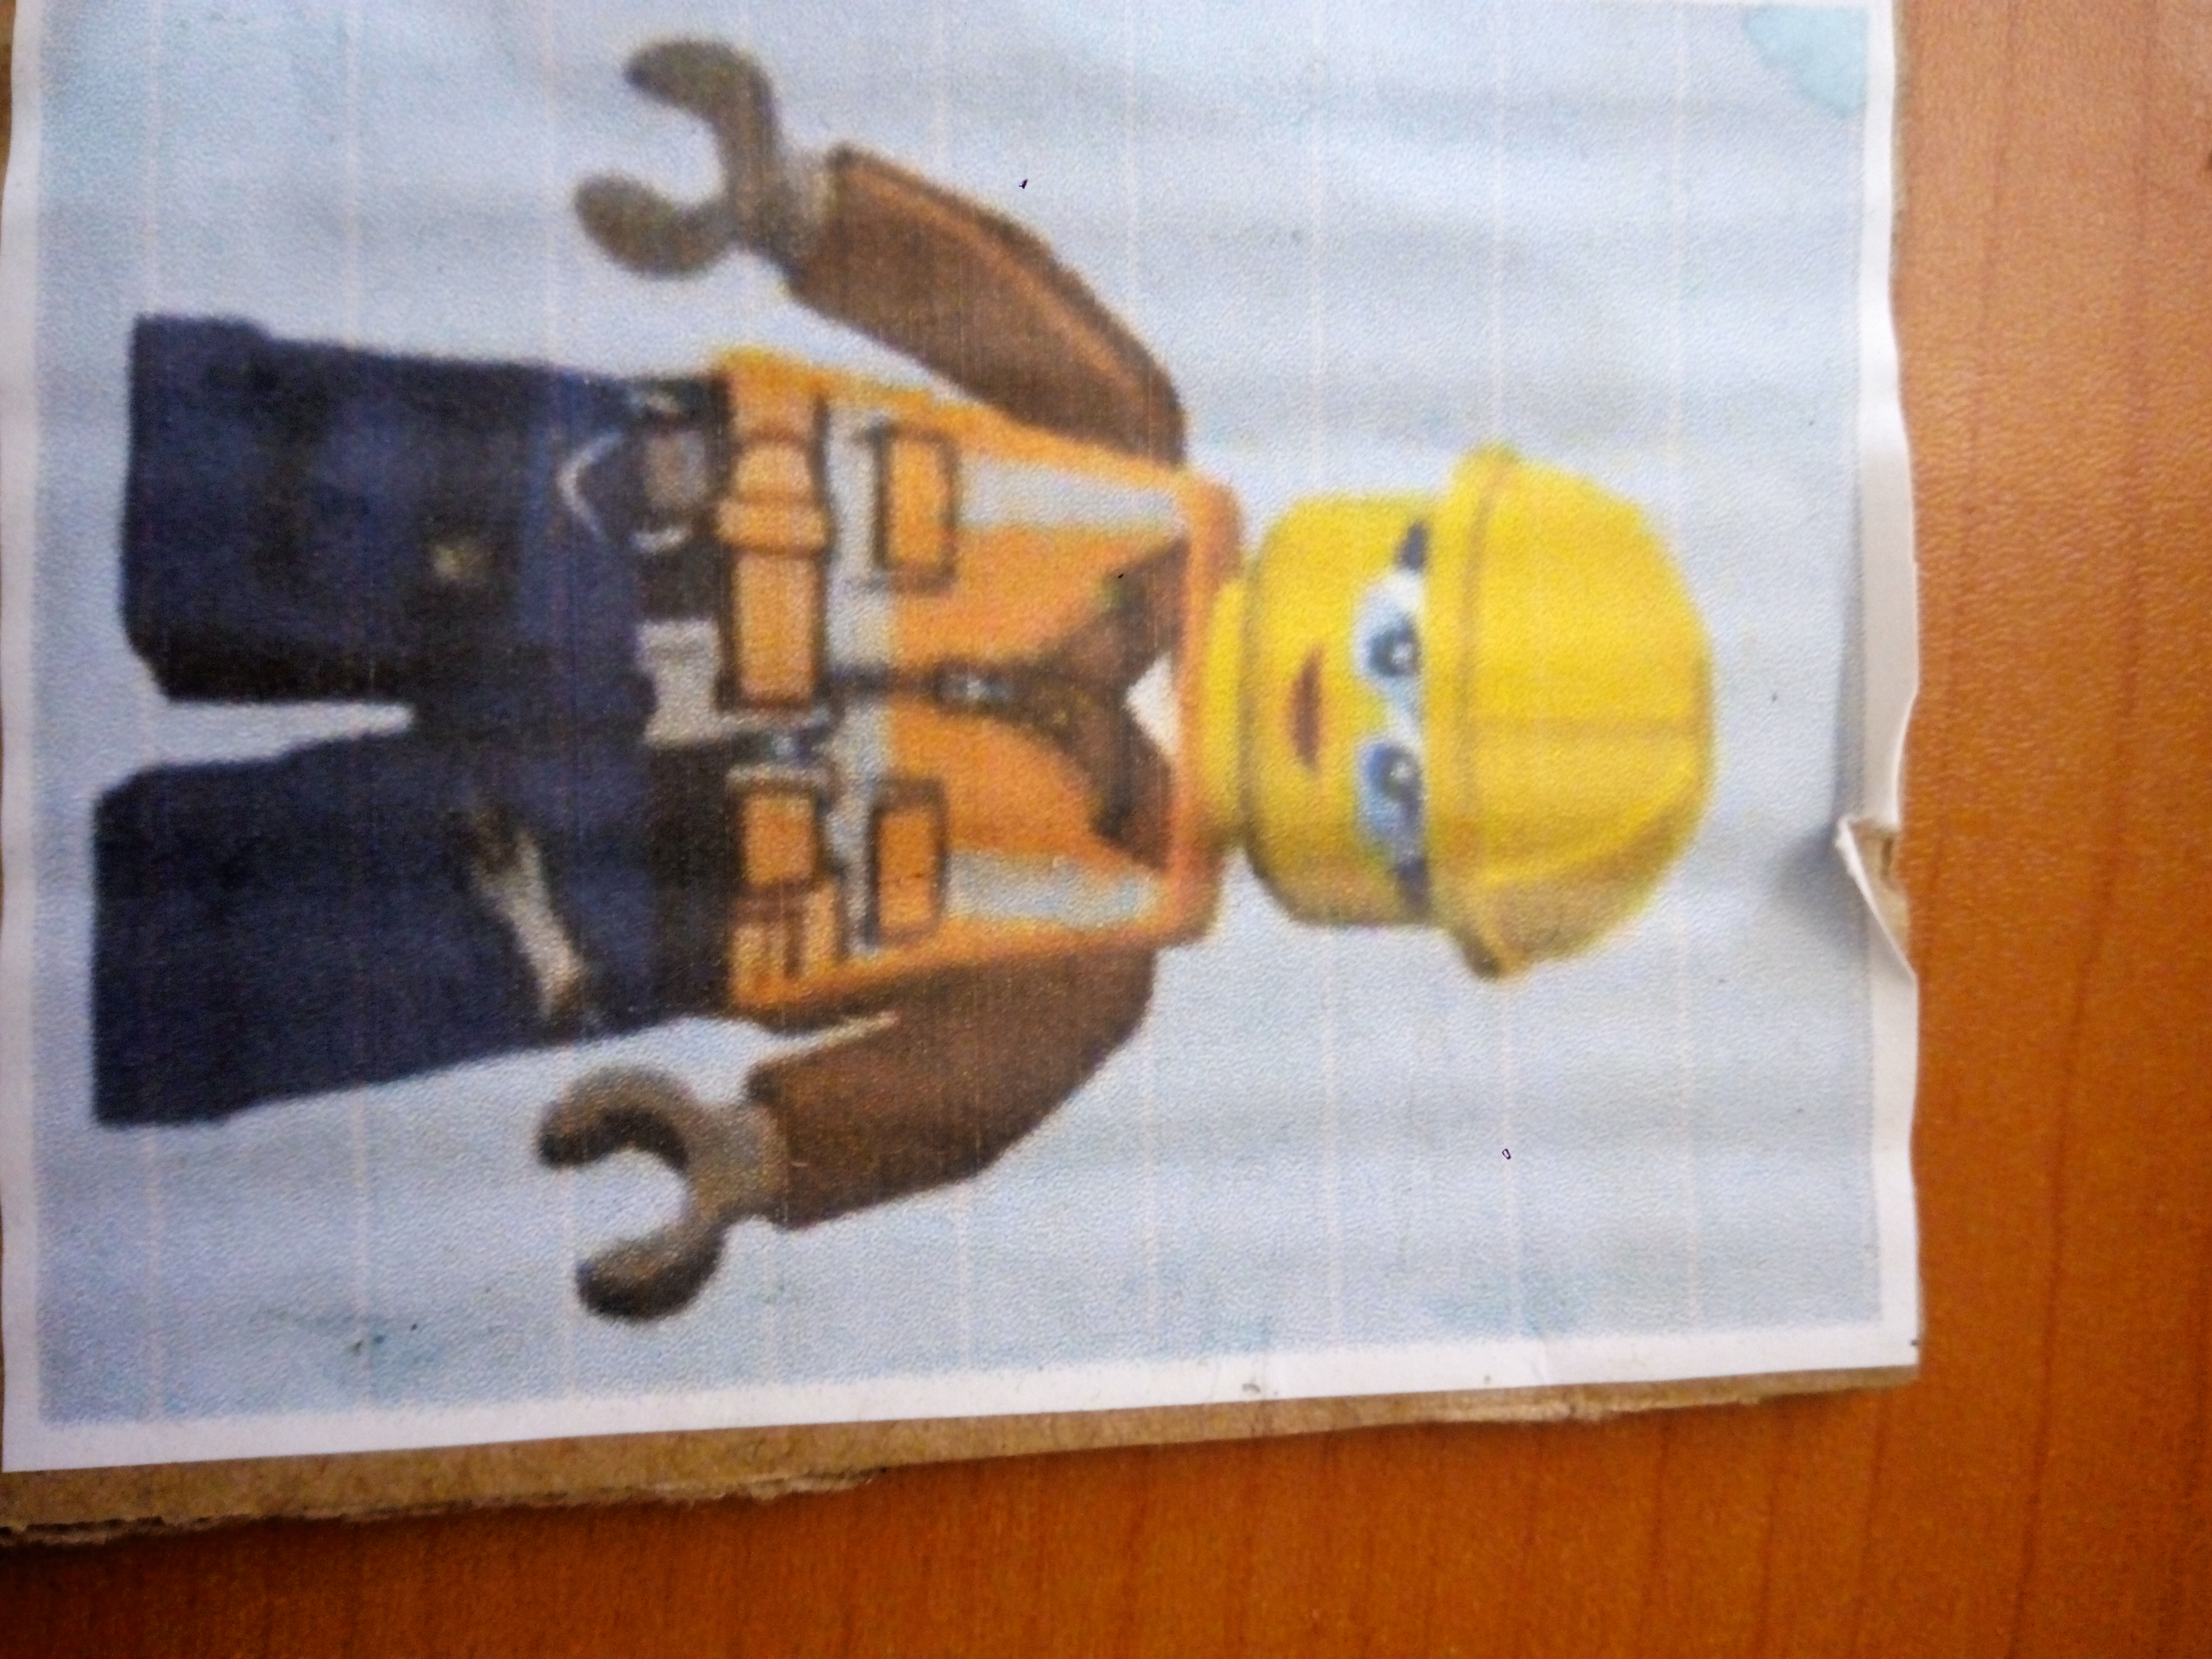pedestrian: (55, 19, 1782, 1315)
